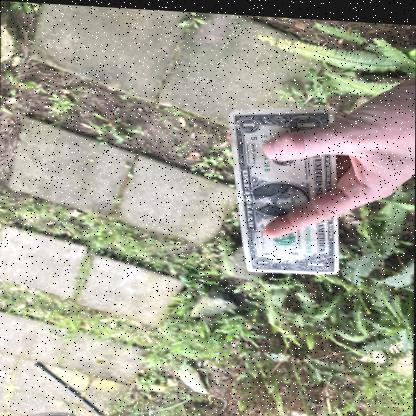one-front: (230, 108, 339, 278)
